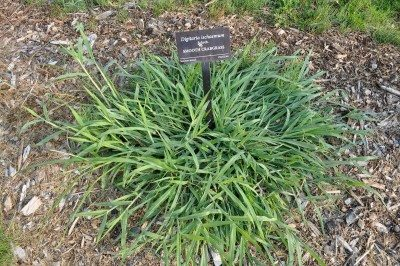crabgrass: (89, 52, 343, 251)
